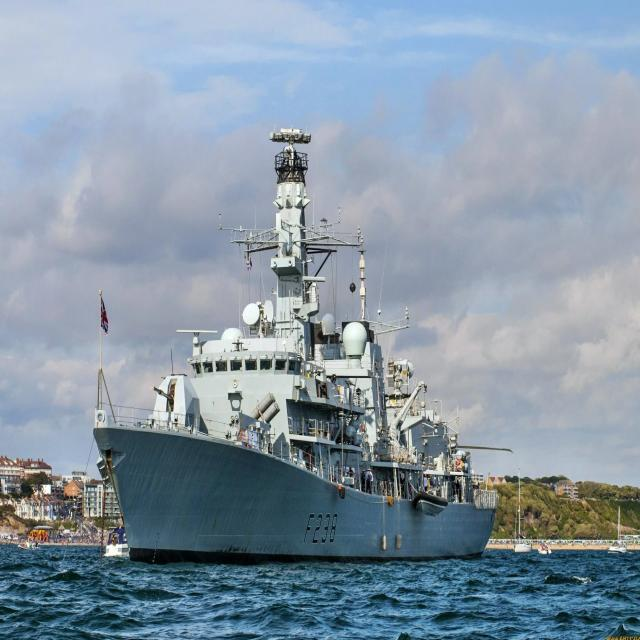Fragata: (68, 119, 483, 577)
